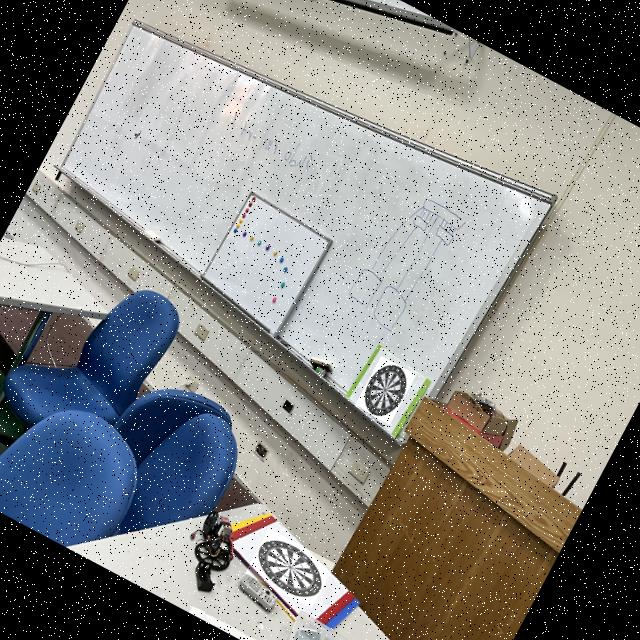archery-targets: (244, 528, 334, 608), (354, 356, 416, 424)
